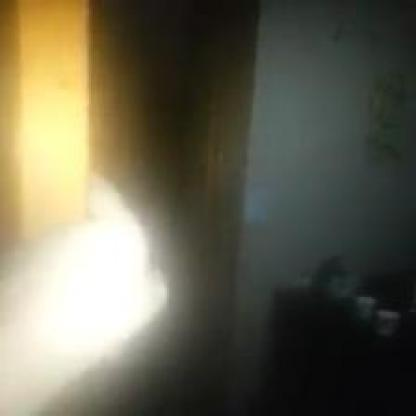other: (24, 222, 137, 363)
